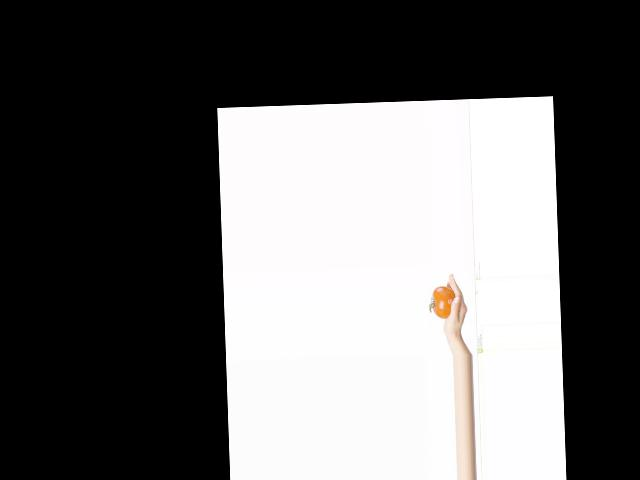tomato: (432, 285, 456, 318)
